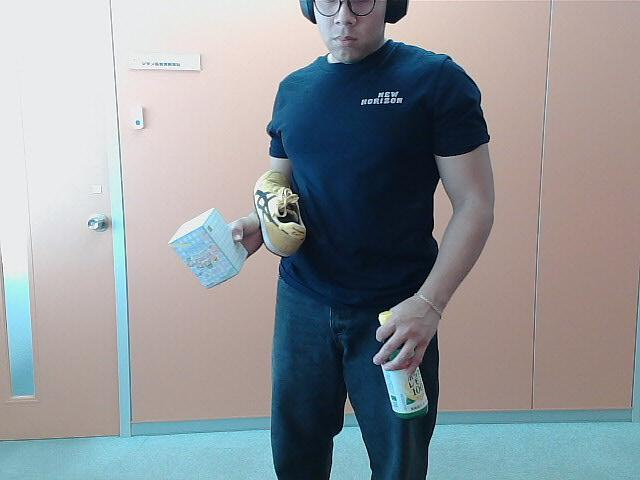Blind_box: (172, 213, 248, 287)
Lemon_sapporo: (372, 302, 430, 421)
Shoes: (256, 168, 306, 260)
